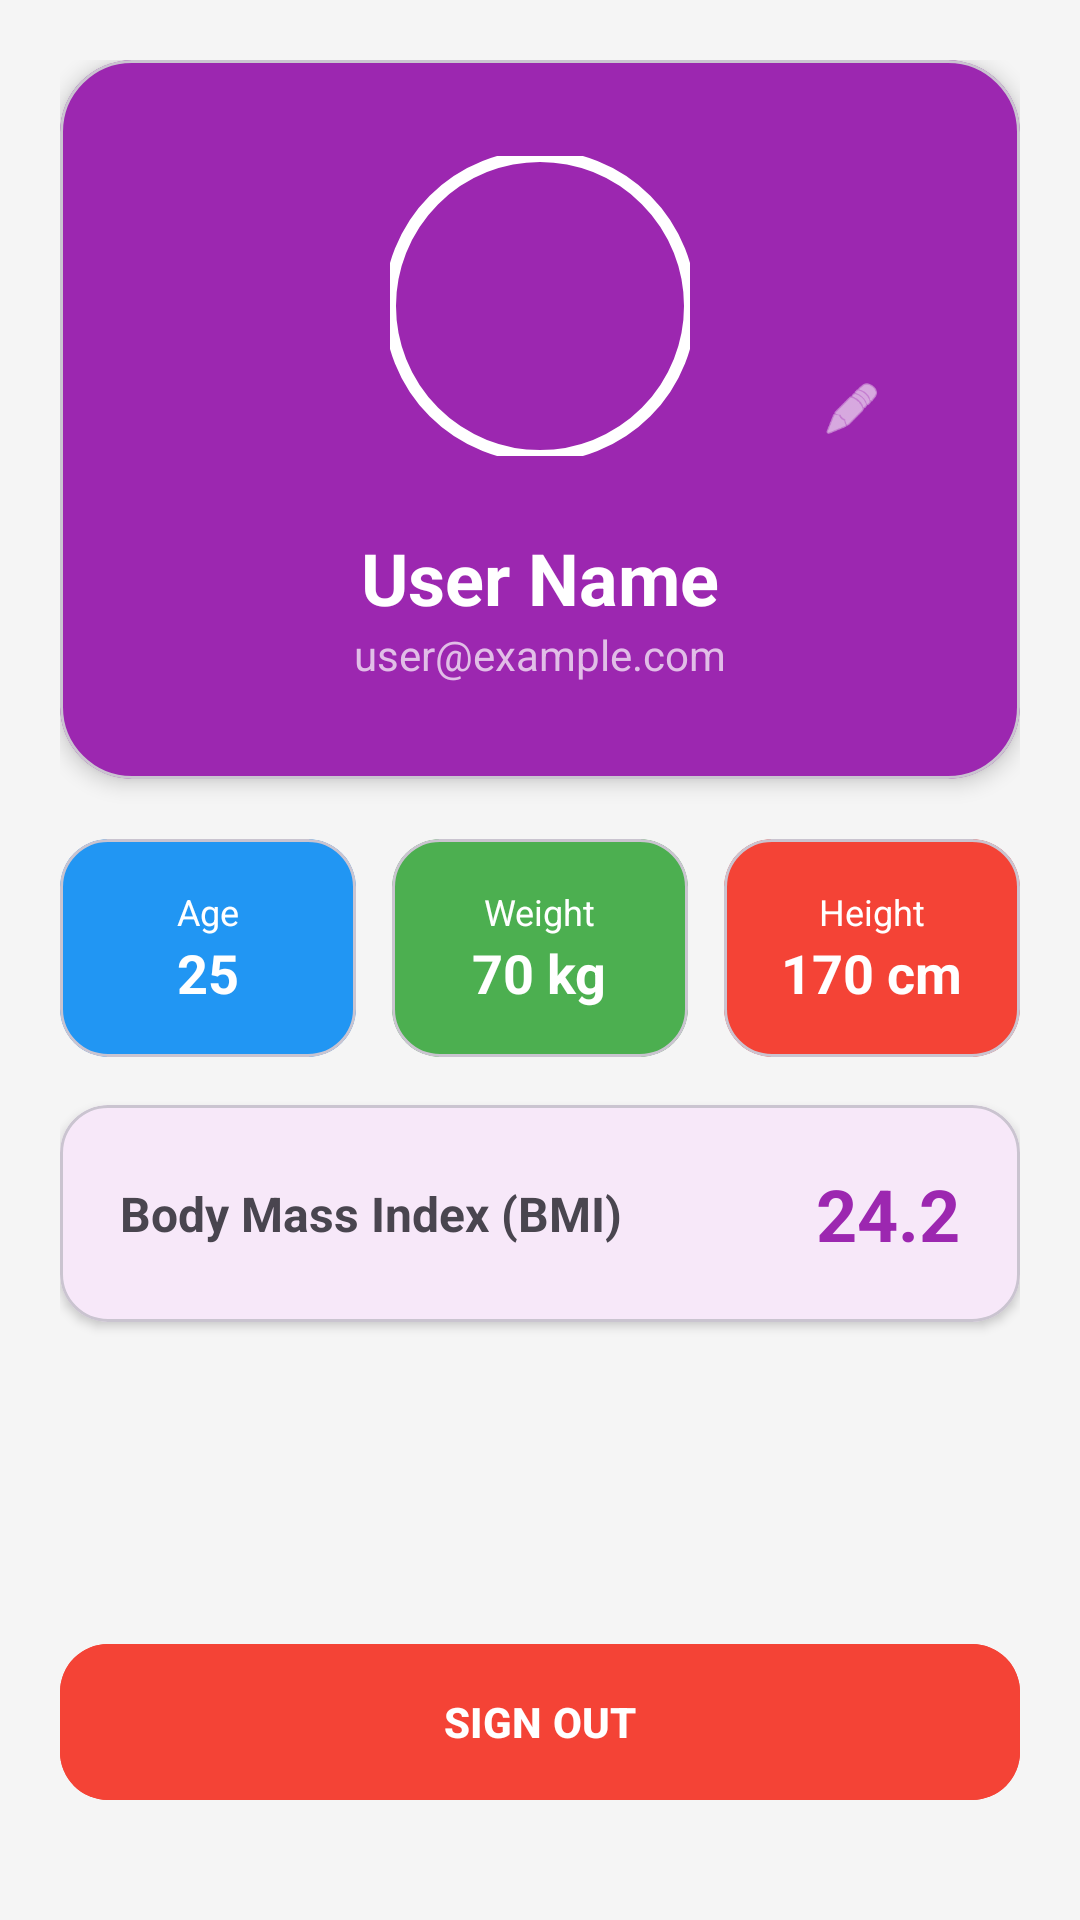

Icon click points for this 1080×1920 phone screenshot, format point (x, y):
edit: point (851, 408)
